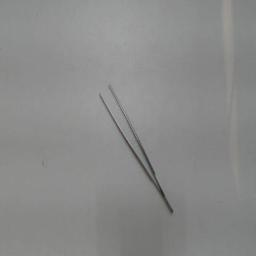Gillies Toothed Dissector: (96, 76, 178, 220)
